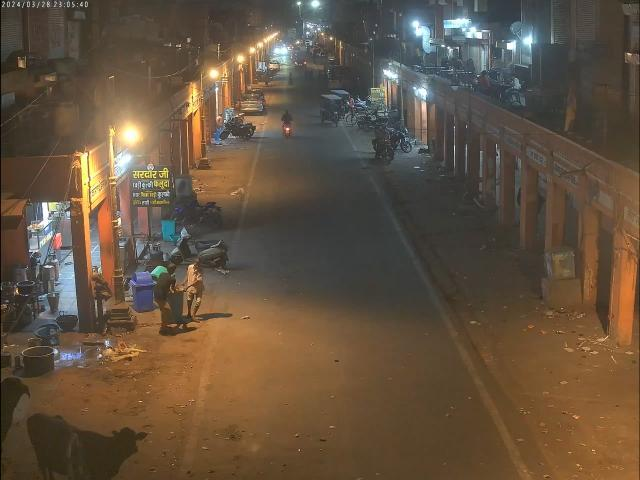auto: (321, 93, 342, 126)
motorbike: (172, 198, 224, 228), (218, 118, 256, 140)
motorbike-rider: (372, 126, 396, 161)
person: (152, 261, 176, 334), (183, 257, 204, 321)
scooty: (171, 228, 229, 270)
scooty-rider: (280, 110, 295, 138)
